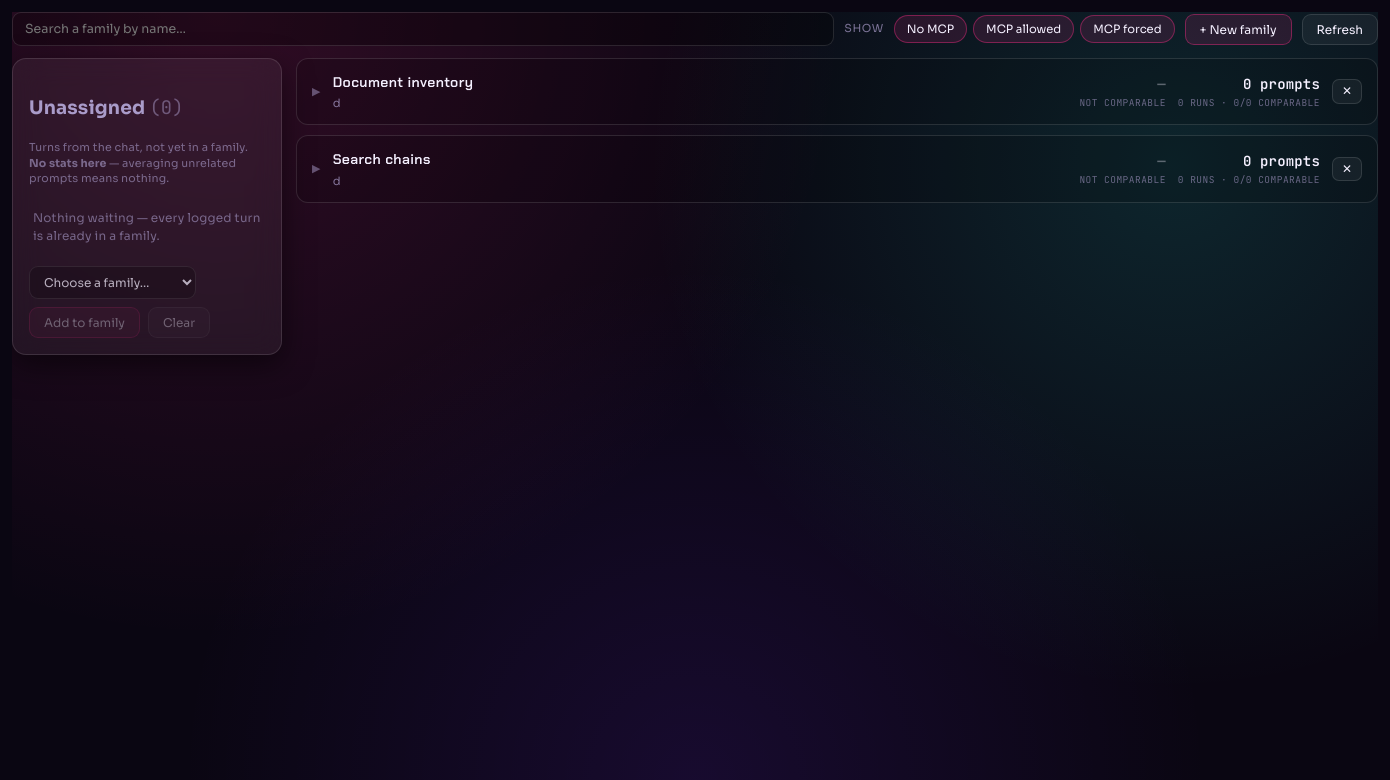
Test: FamiliesTab › filters the family list by name via the search box
Expected: the text "Document inventory" is shown, [333, 73, 473, 91]
Expected: the text "Search chains" is shown, [333, 150, 431, 168]
Type "search" into the search field with placeholder "Search a family by name…" at (423, 29), box [12, 12, 834, 46]
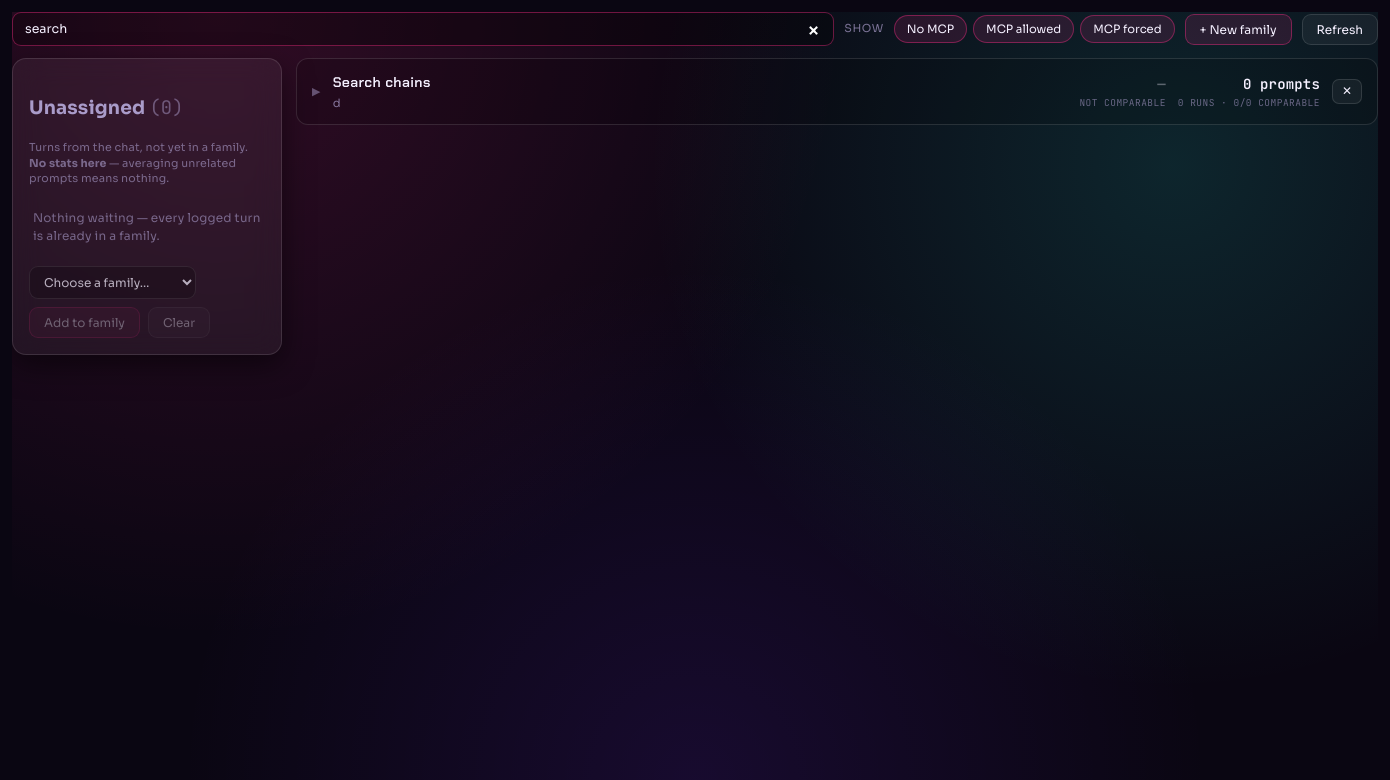
Expected: the text "Search chains" is shown, [333, 73, 431, 91]
Now the button "Document inventory" is gone
